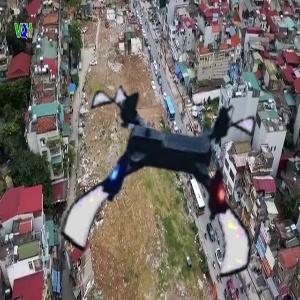drone: (72, 87, 269, 284)
